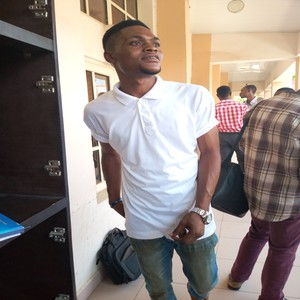Fulokoja_male_student: (95, 19, 220, 300)
